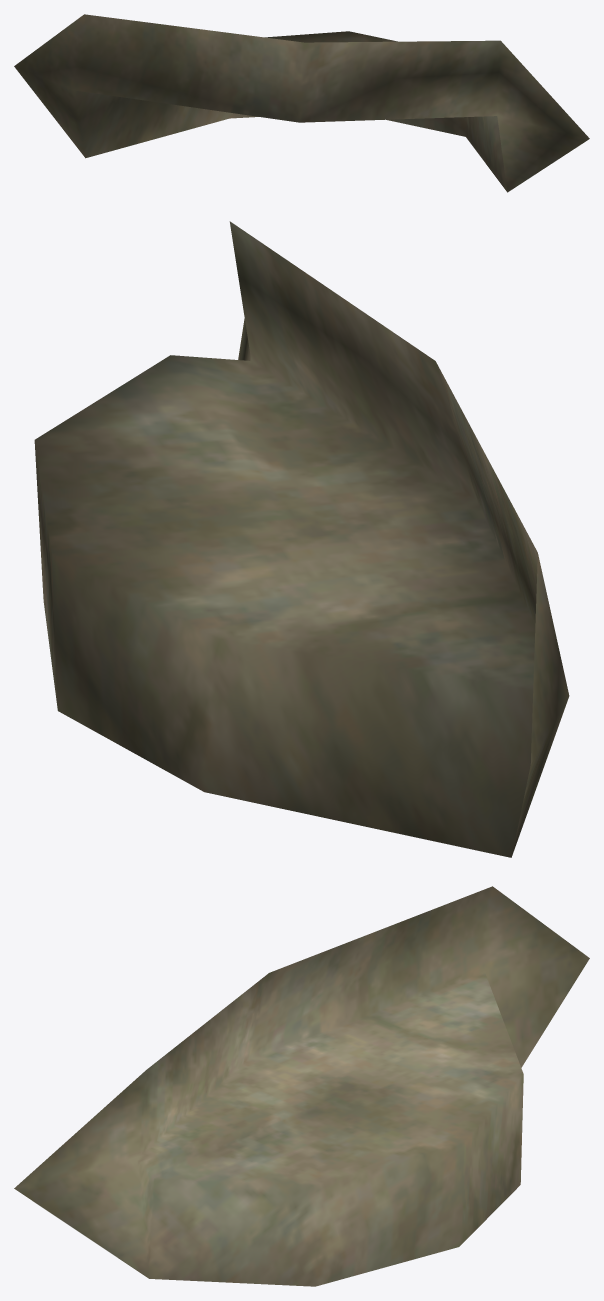
The model's file is EKH_CAVERNS_PS_CA_PLATFORM647365.fbx.
The picture shows the model from 3 angles, top to bottom: view 1: azimuth 30°, elevation 25°; view 2: azimuth 150°, elevation 25°; view 3: azimuth 270°, elevation 25°; orthographic projection. The views are drawn at different scales.
Visible parts, largest first — view 1: EKH_CAVERNS_PS_CA_PLATFORM647365; view 2: EKH_CAVERNS_PS_CA_PLATFORM647365; view 3: EKH_CAVERNS_PS_CA_PLATFORM647365.
Part boxes in pixels (box(x1,y1,x2,y2)): EKH_CAVERNS_PS_CA_PLATFORM647365: box(14, 14, 589, 192); EKH_CAVERNS_PS_CA_PLATFORM647365: box(34, 221, 569, 857); EKH_CAVERNS_PS_CA_PLATFORM647365: box(14, 886, 589, 1286).
Size of the model in its own units: 23614 by 9789 by 24960.
1 material, 1 textured.
